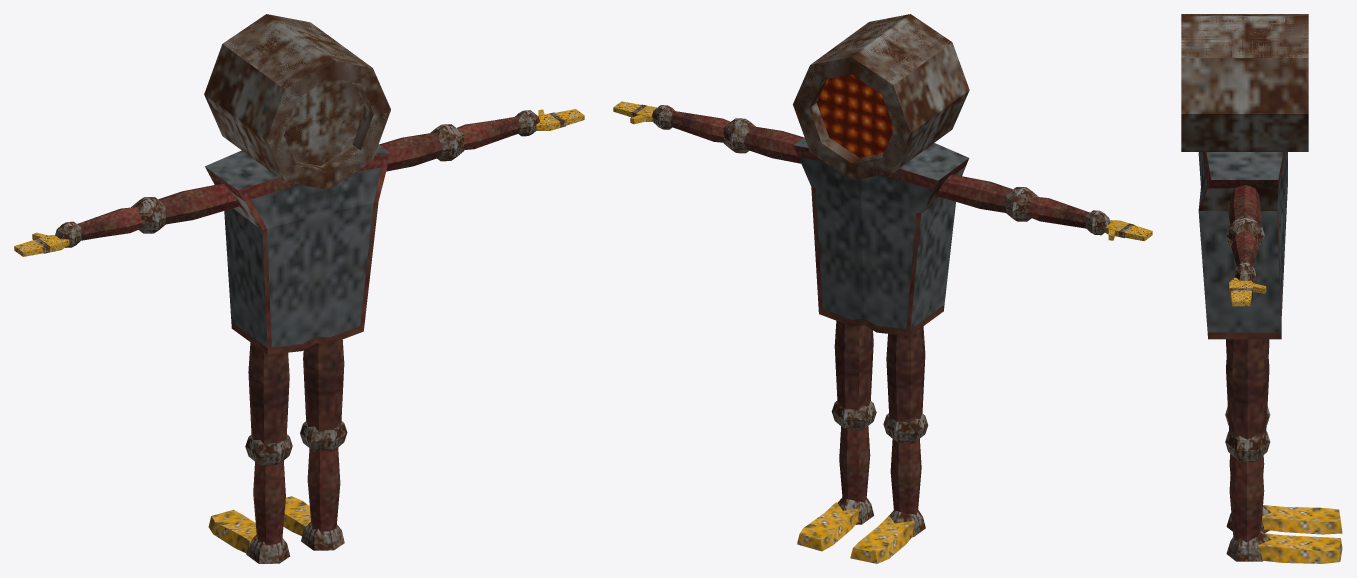
File: Salien.fbx
3 views of the same model, side by side, from view 1: azimuth 30°, elevation 25°; view 2: azimuth 150°, elevation 25°; view 3: azimuth 270°, elevation 25° (orthographic). The views are drawn at different scales.
Parts seen in each view (by area): view 1: SalienMesh; view 2: SalienMesh; view 3: SalienMesh.
Part boxes in pixels (left/top/right/bottom): SalienMesh: left=14, top=14, right=584, bottom=563; SalienMesh: left=613, top=14, right=1152, bottom=563; SalienMesh: left=1181, top=14, right=1342, bottom=563.
Bounding box in the file's own units: 726 × 177 × 635.
Materials: 1 (1 with a texture image).
